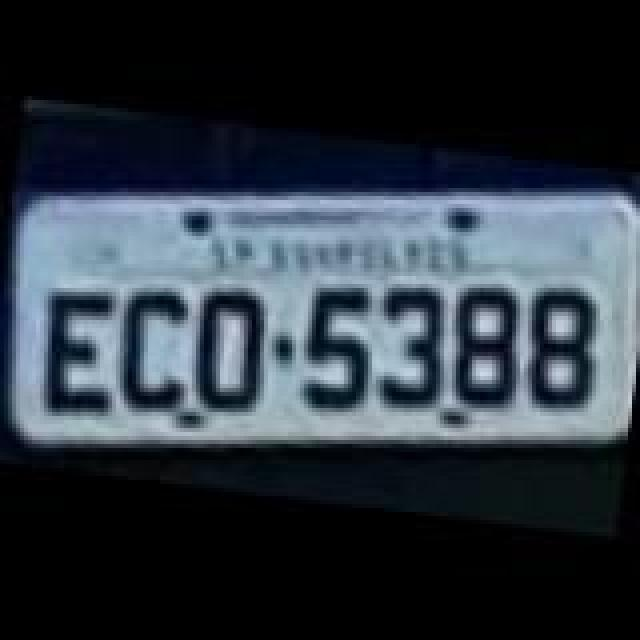3: (364, 280, 452, 416)
5: (294, 276, 378, 412)
8: (512, 282, 608, 414), (446, 280, 530, 416)
C: (108, 284, 196, 420)
E: (34, 286, 126, 418)
O: (186, 286, 278, 418)
